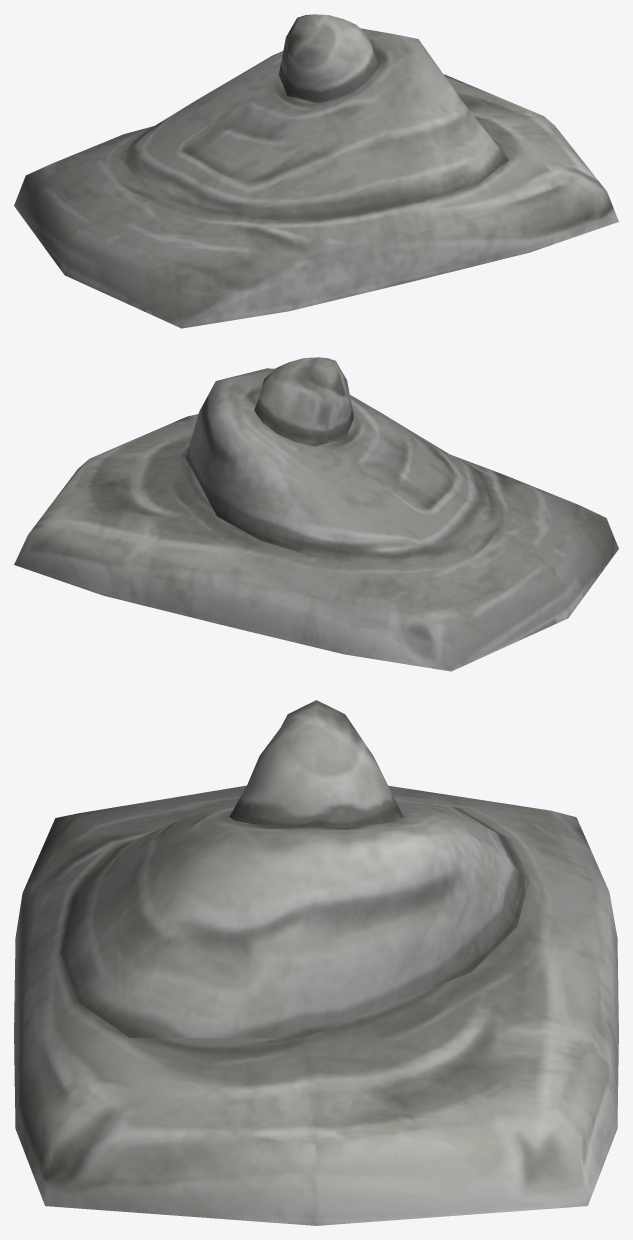
File: 19_R_Pequeña.fbx
3 views of the same model, one above another, from view 1: azimuth 30°, elevation 25°; view 2: azimuth 150°, elevation 25°; view 3: azimuth 270°, elevation 25° (orthographic). The views are drawn at different scales.
Visible parts, largest first — view 1: 19_R_Pequeña_Low; view 2: 19_R_Pequeña_Low; view 3: 19_R_Pequeña_Low.
Boxes of the visible parts, x1,y1,x2,y2 form: 19_R_Pequeña_Low: [14, 14, 618, 328]; 19_R_Pequeña_Low: [14, 357, 618, 671]; 19_R_Pequeña_Low: [14, 700, 618, 1225].
Size of the model in its own units: 575 by 222 by 376.
